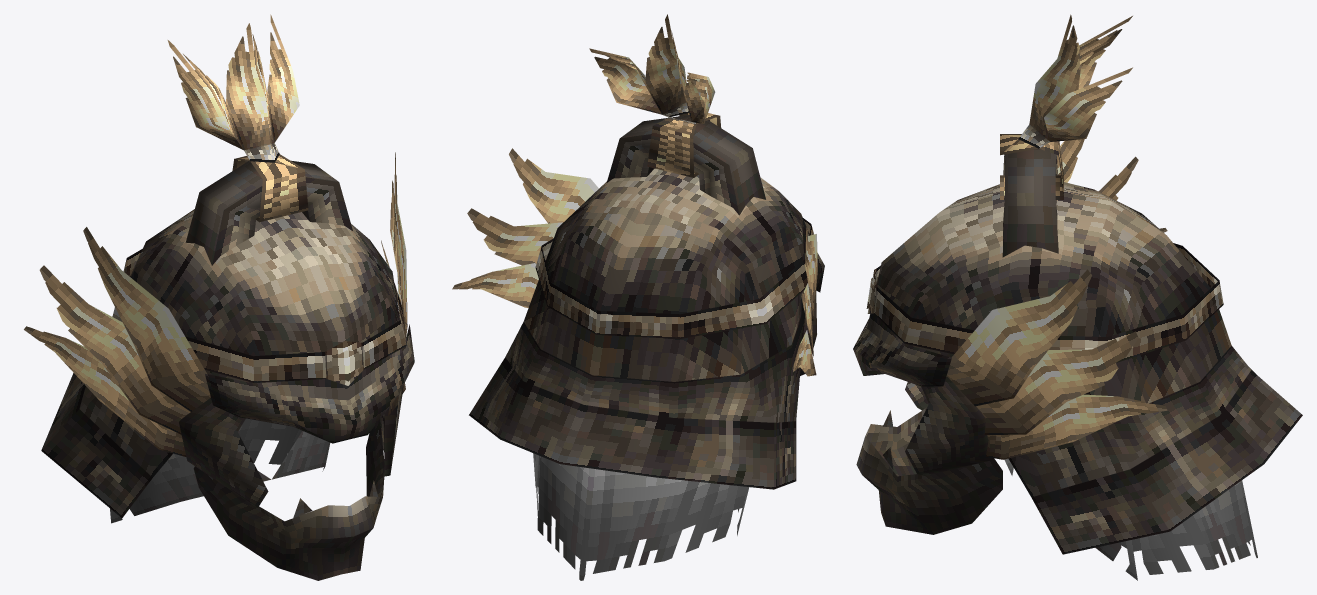
The model's file is m_hair292.glb.
The picture shows the model from 3 angles, left to right: view 1: azimuth 30°, elevation 25°; view 2: azimuth 150°, elevation 25°; view 3: azimuth 270°, elevation 25°; orthographic projection. The views are drawn at different scales.
Bounding box in the file's own units: 28.08 × 38.86 × 29.14.
Materials: 1 (1 with a texture image).
